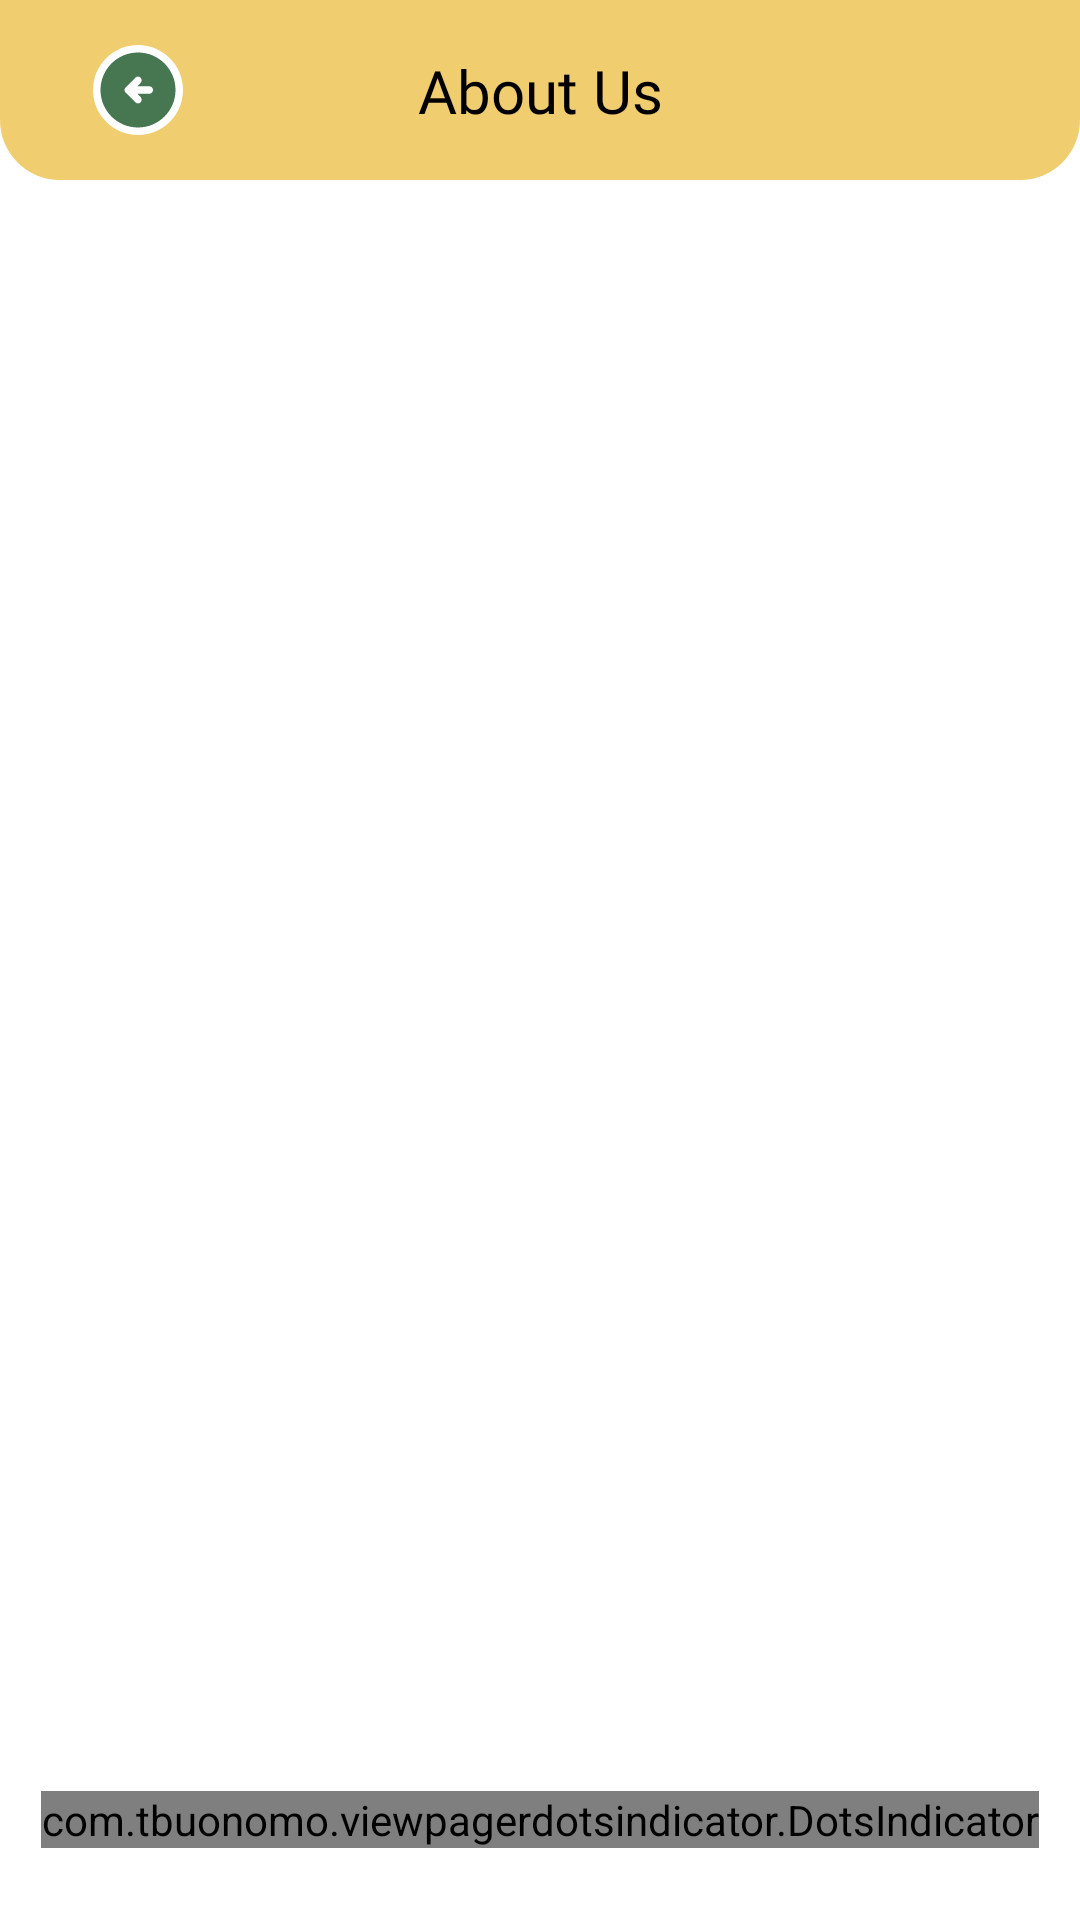

Screen size 1080w x 1920h. Icon name, then its center in pixels as point (x, y):
backward: point (138, 90)
